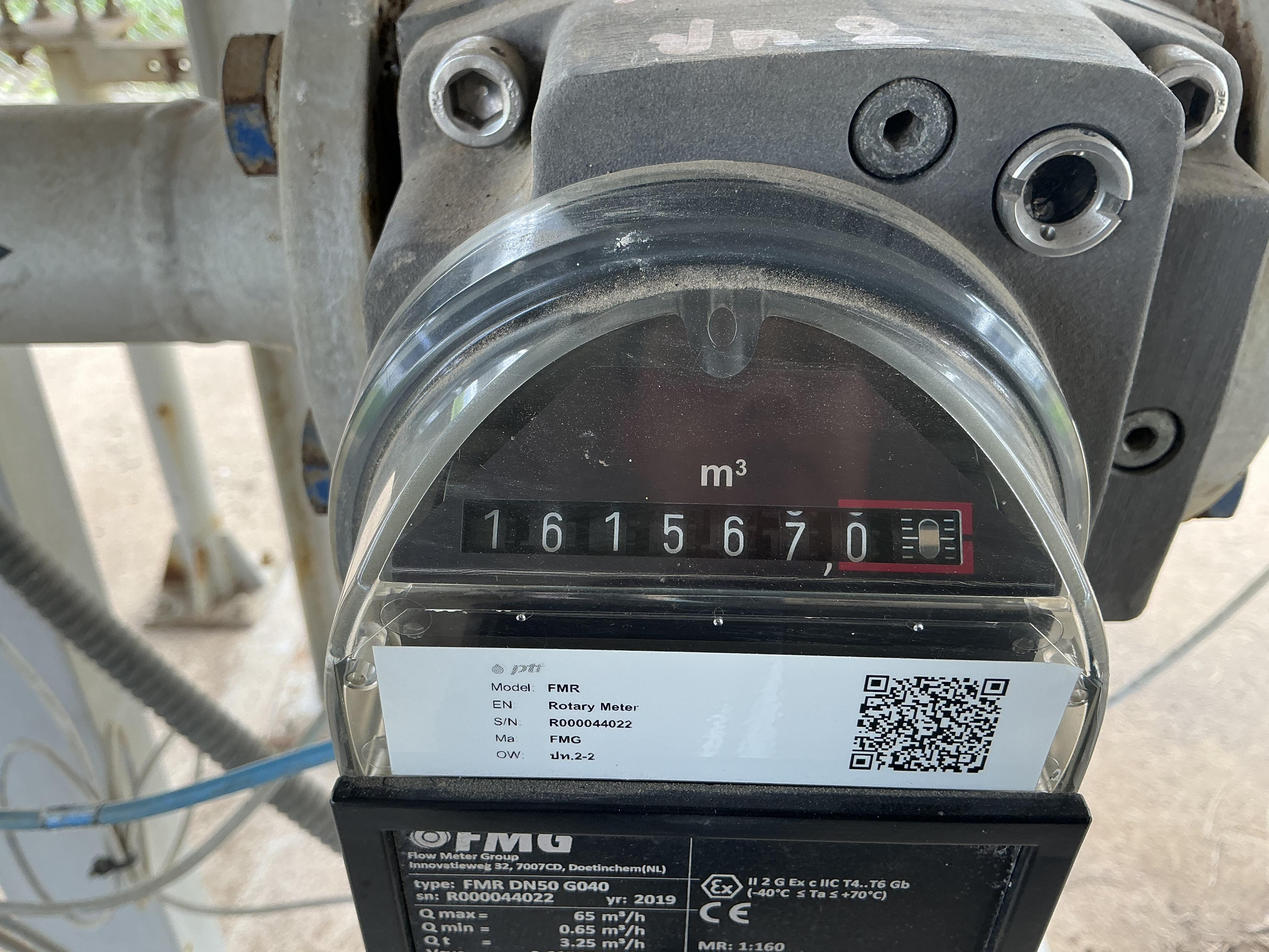analog_dial: (454, 486, 983, 577)
